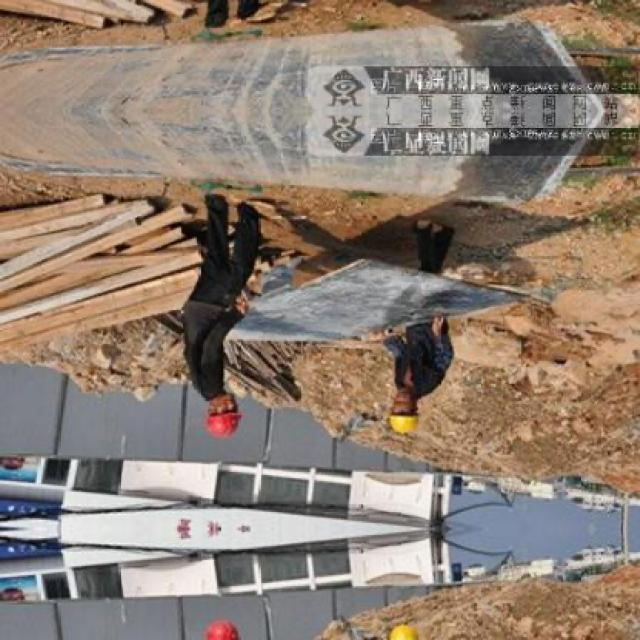con casco: (168, 379, 253, 454), (351, 381, 426, 462)
